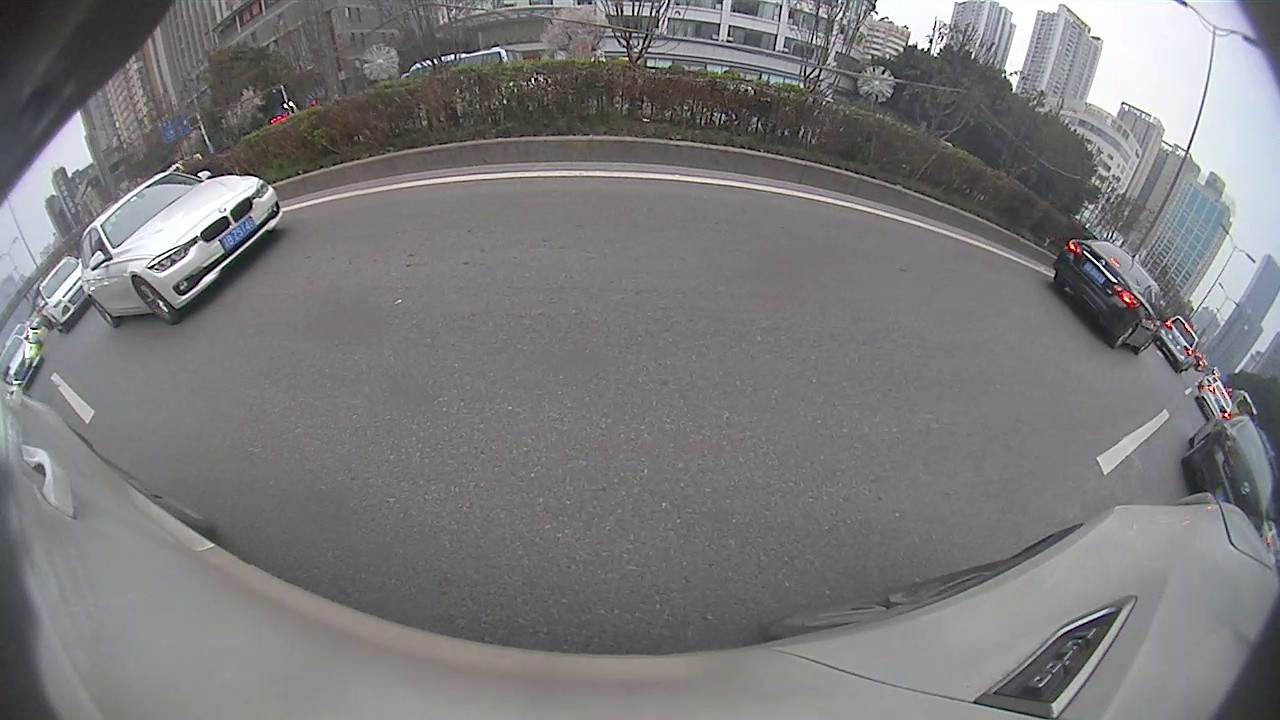car: (76, 169, 283, 330), (1053, 238, 1171, 358), (1182, 406, 1276, 533), (33, 259, 90, 333), (1158, 315, 1198, 375)
front: (130, 272, 178, 326)
rear: (1110, 322, 1137, 351)
